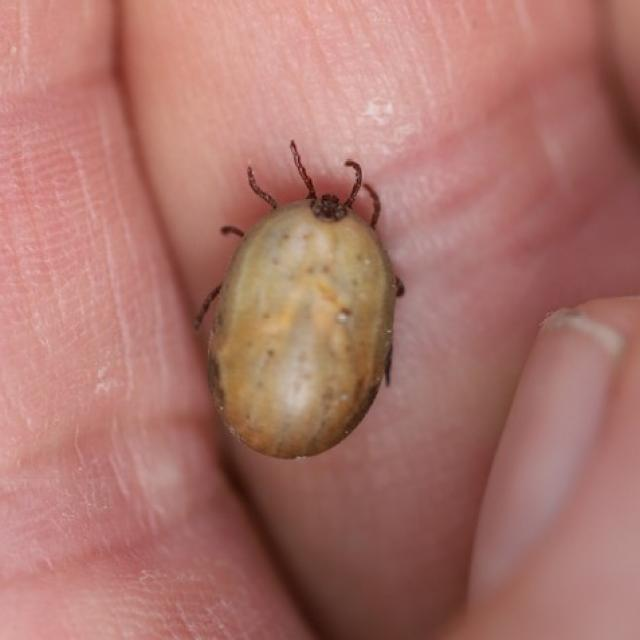Dermacentor Reticulatus-F-Fed: (193, 140, 405, 458)
